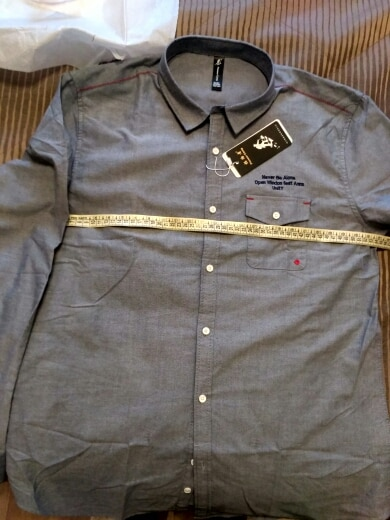shirts: (5, 34, 390, 503)
